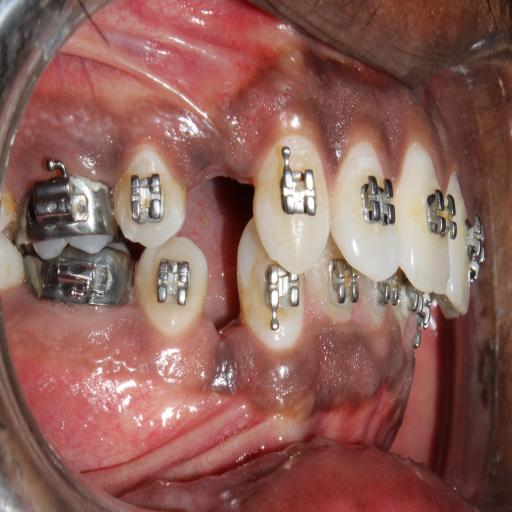correct_brace: (114, 142, 184, 244), (135, 240, 209, 333), (271, 148, 326, 228), (357, 154, 398, 240), (154, 252, 196, 323), (420, 185, 458, 245)
incorrect_brace: (331, 134, 399, 280), (126, 166, 168, 226)
